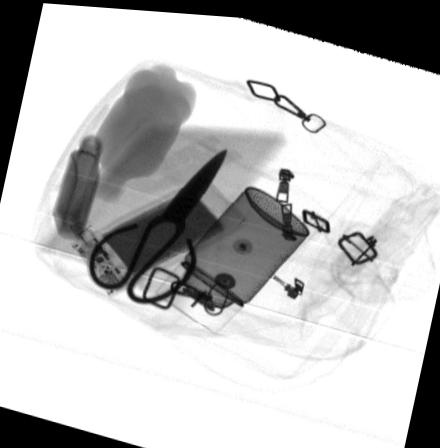Lighter: (57, 215, 133, 293)
Powerbank: (66, 166, 246, 298)
Scissors: (86, 144, 226, 301)
Sprayer: (152, 184, 308, 331)
